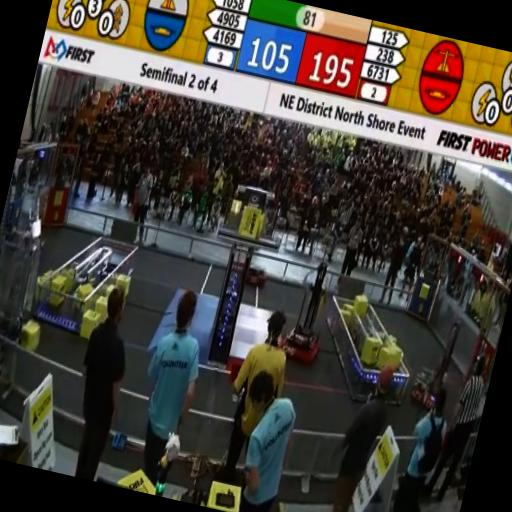robot: (0, 198, 70, 365), (272, 252, 342, 376), (406, 308, 466, 416), (232, 254, 273, 288)
